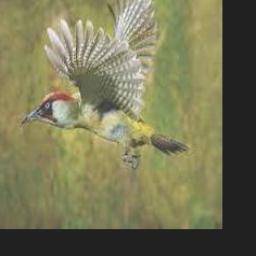Woodpecker: (21, 0, 191, 169)
